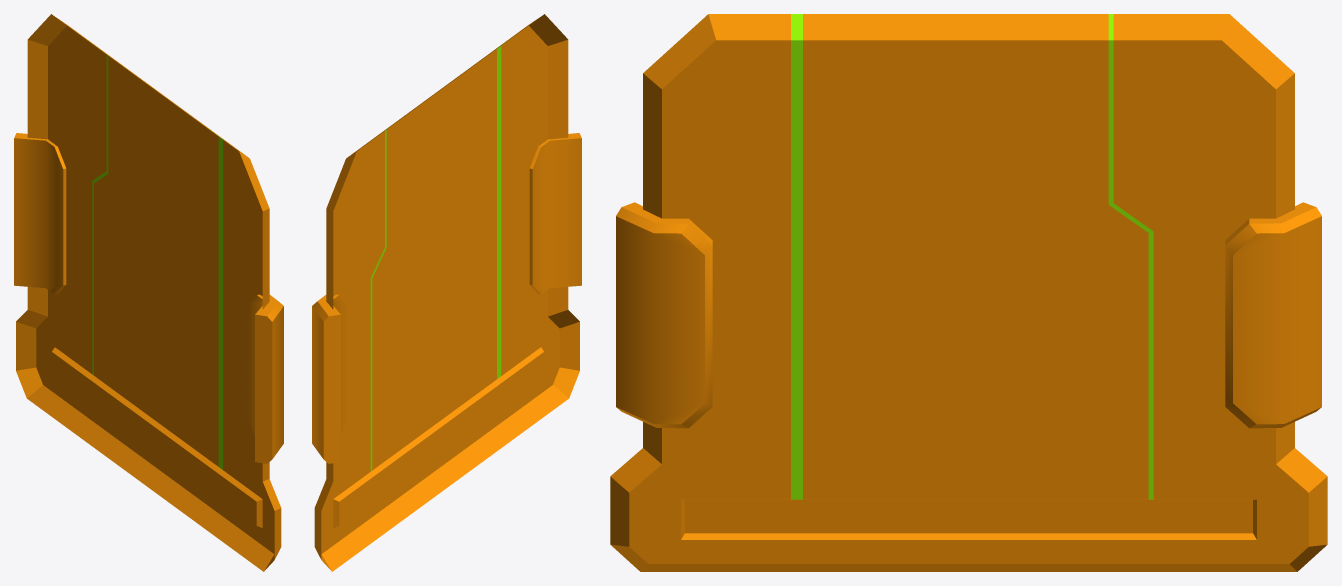
File: Building_Baffle_Metal_03a_snaps016.fbx
3 views of the same model, side by side, from view 1: azimuth 30°, elevation 25°; view 2: azimuth 150°, elevation 25°; view 3: azimuth 270°, elevation 25° (orthographic). The views are drawn at different scales.
Visible parts, largest first — view 1: Building_Baffle_Metal_03a_snaps016_LOD0; view 2: Building_Baffle_Metal_03a_snaps016_LOD0; view 3: Building_Baffle_Metal_03a_snaps016_LOD0.
Part boxes in pixels (box(x1,y1,x2,y2)): Building_Baffle_Metal_03a_snaps016_LOD0: box(14, 14, 283, 571); Building_Baffle_Metal_03a_snaps016_LOD0: box(312, 14, 581, 571); Building_Baffle_Metal_03a_snaps016_LOD0: box(610, 14, 1327, 571).
Size of what is drawn, in the model's own units: 0.4661 by 4.9 by 5.71.
